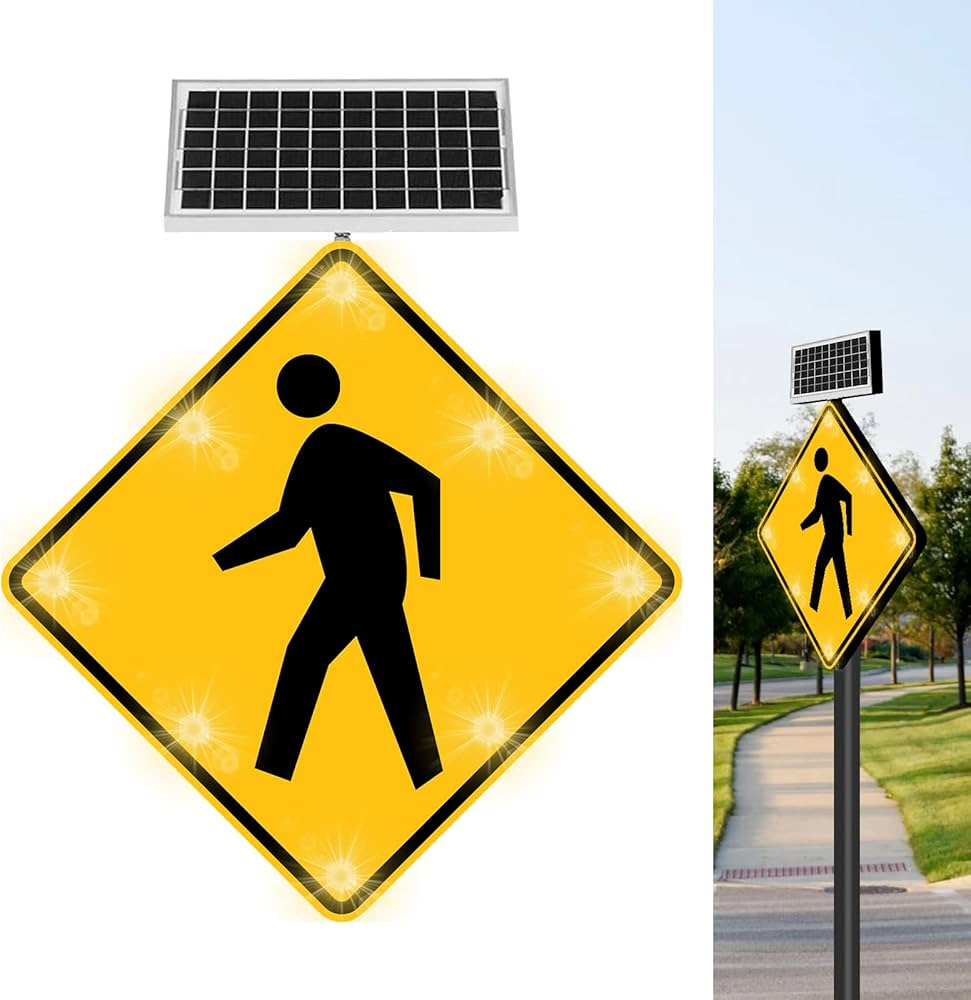CrossSign: (12, 228, 680, 928), (754, 403, 924, 674)
